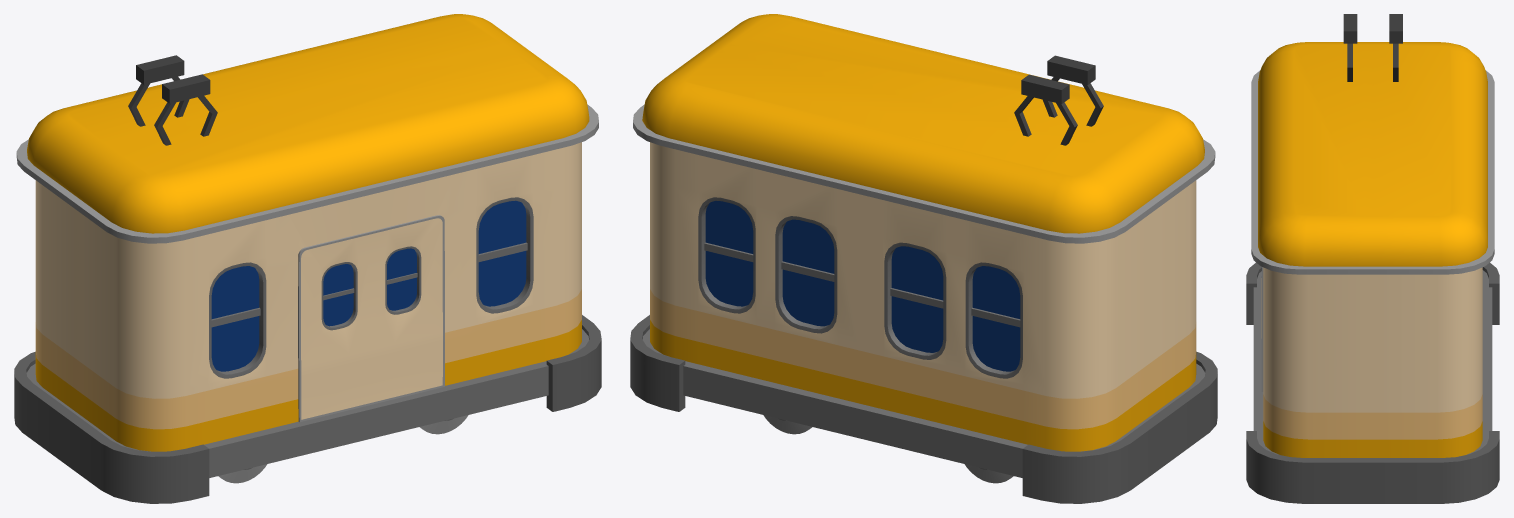
Rendered from tram_car.gltf.
The picture shows the model from 3 angles, left to right: view 1: azimuth 30°, elevation 25°; view 2: azimuth 150°, elevation 25°; view 3: azimuth 270°, elevation 25°; orthographic projection. The views are drawn at different scales.
Parts seen in each view (by area): view 1: Cube.600, Cube.603, Cube.602; view 2: Cube.600, Cube.603, Cube.602; view 3: Cube.600, Cube.603.
Boxes of the visible parts, x1,y1,x2,y2 form: Cube.600: (16,14,598,477); Cube.603: (14,315,601,503); Cube.602: (218,415,468,483); Cube.600: (633,14,1215,477); Cube.603: (630,315,1217,503); Cube.602: (763,415,1013,483); Cube.600: (1251,14,1494,457); Cube.603: (1246,262,1499,503).
Size of the model in its own units: 2.19 by 1.67 by 1.11.
1 material, 1 textured.
